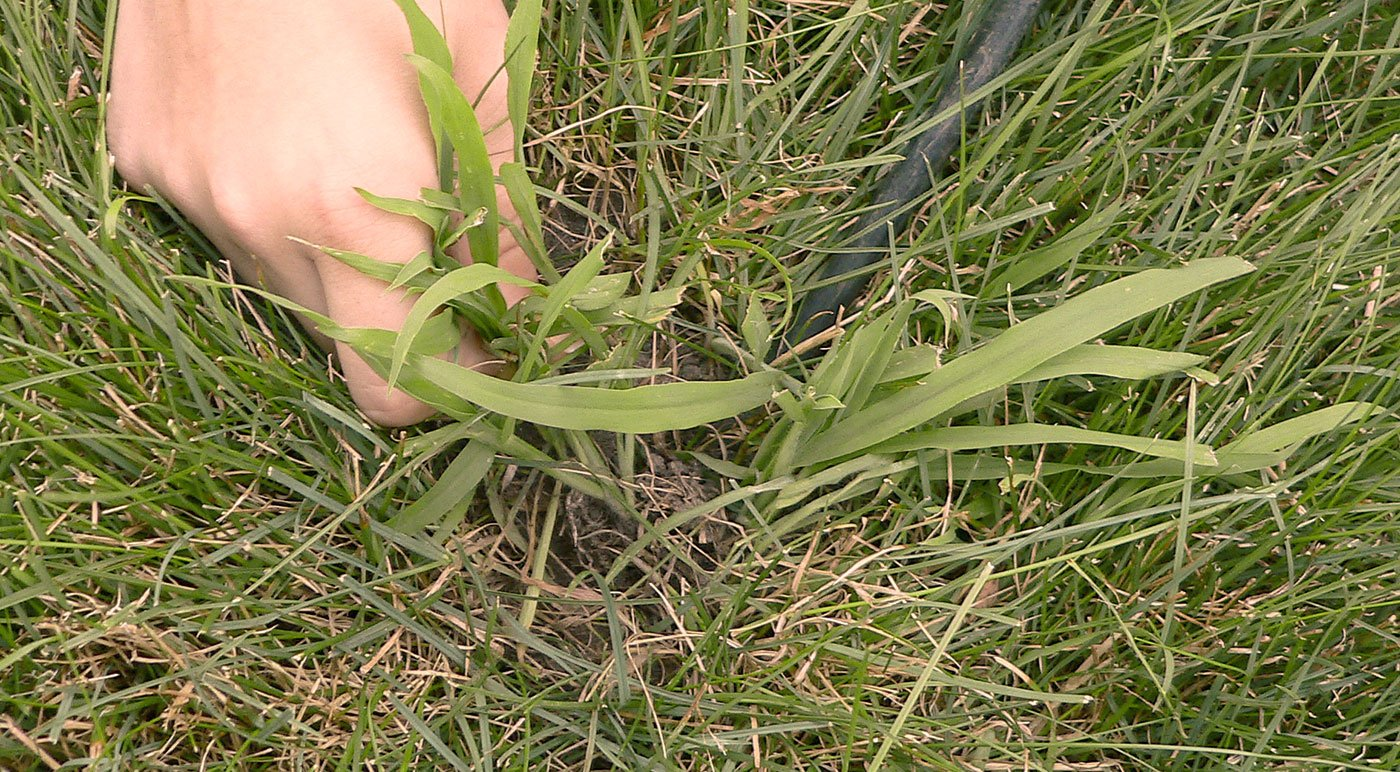crabgrass: (763, 165, 1109, 540), (347, 163, 708, 502)
